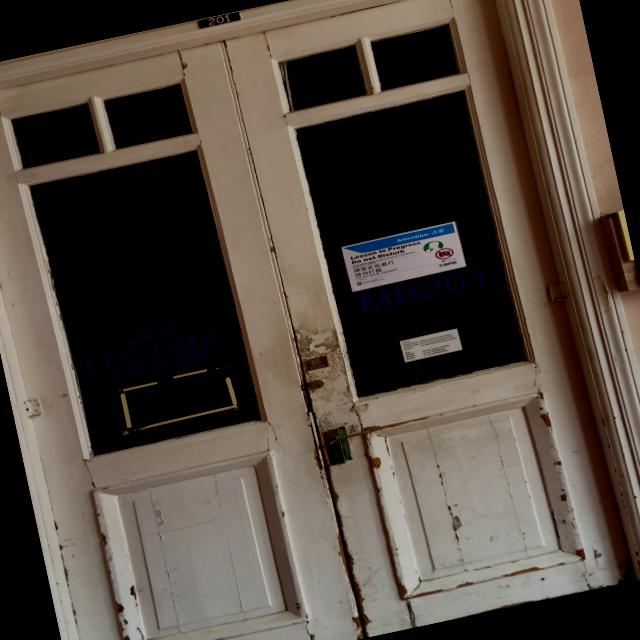room201: (190, 10, 244, 34)
room201Window: (352, 262, 499, 318)
